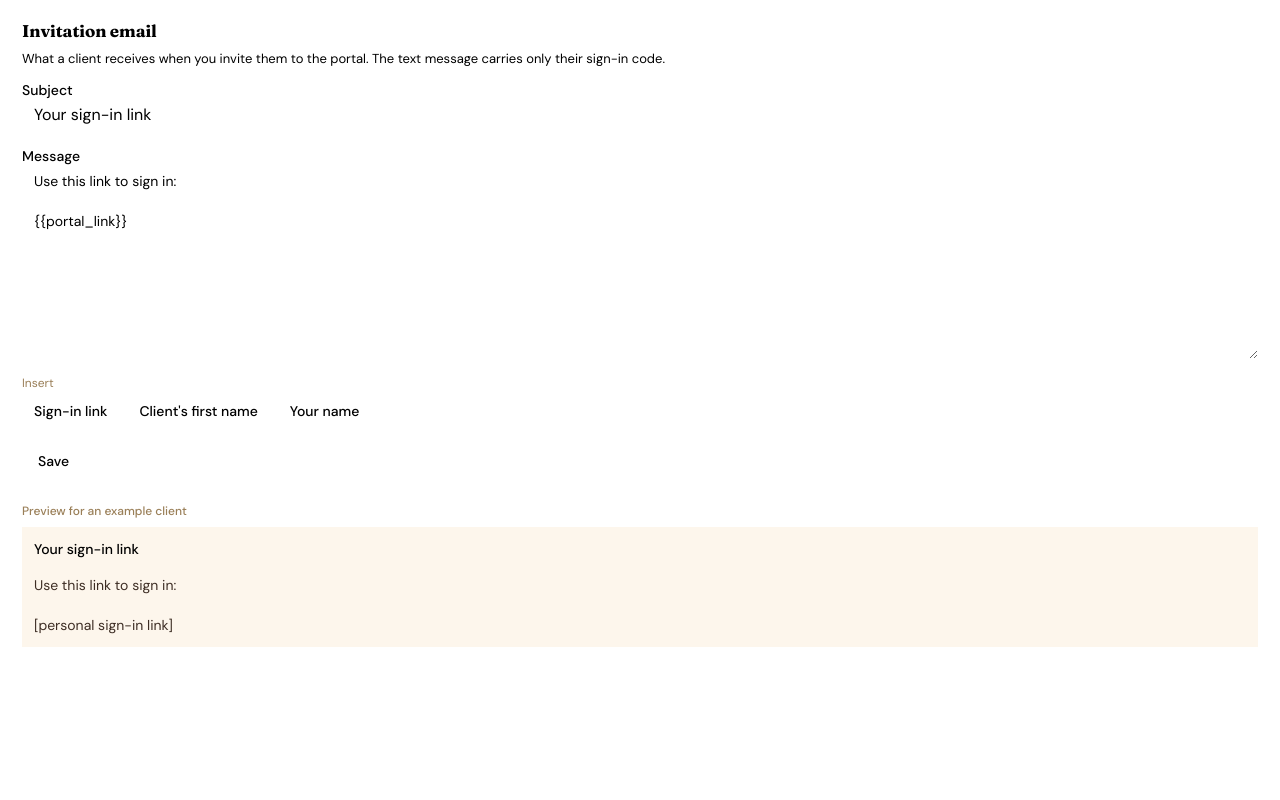
Test case: InviteEmailCard › offers the clinician's name to insert, and previews it filled in
Click the button "Your name": (325, 411) [278,395,371,427]
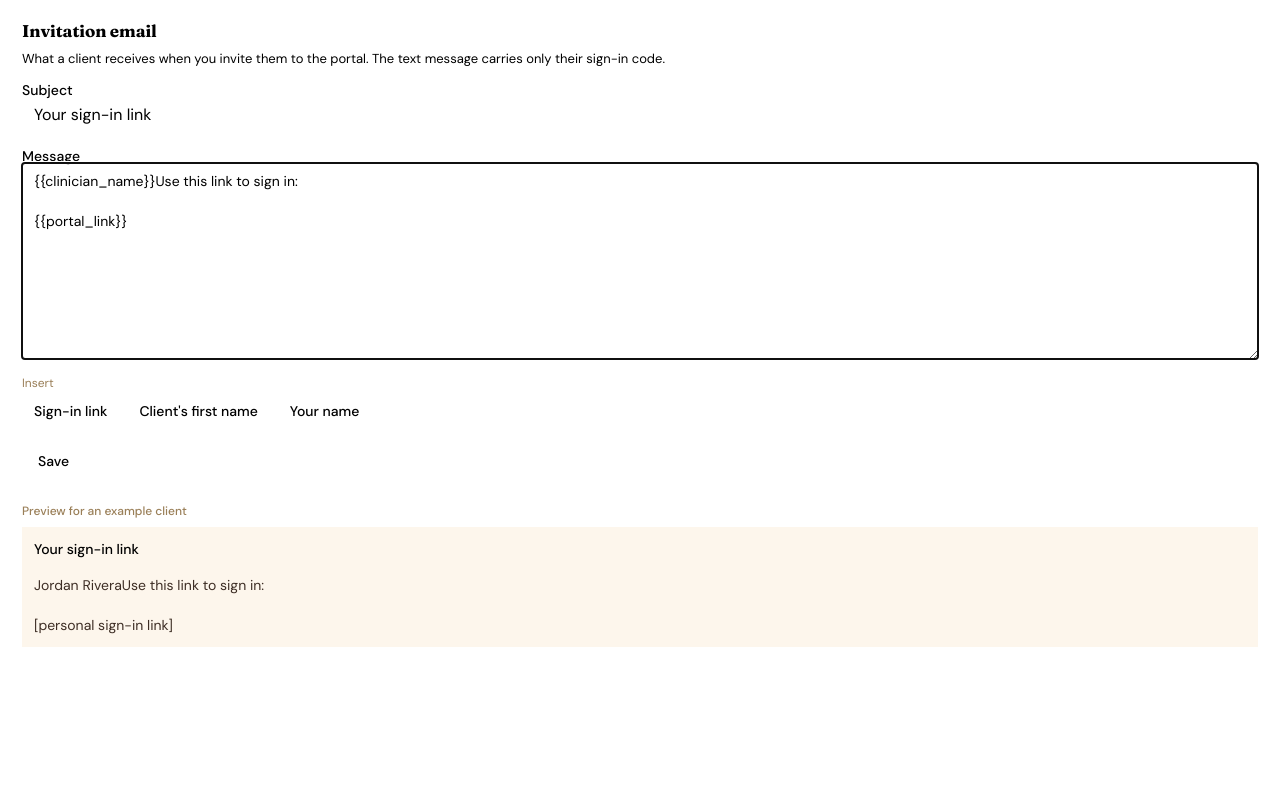
Result: the element with test id "invite-email-card-preview" shows "Jordan Rivera" at [34,576,264,634]
